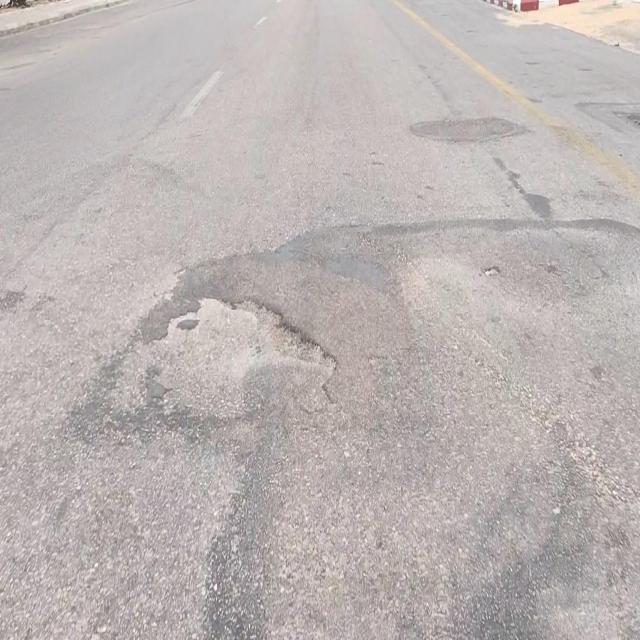Potholes: (107, 290, 341, 424)
